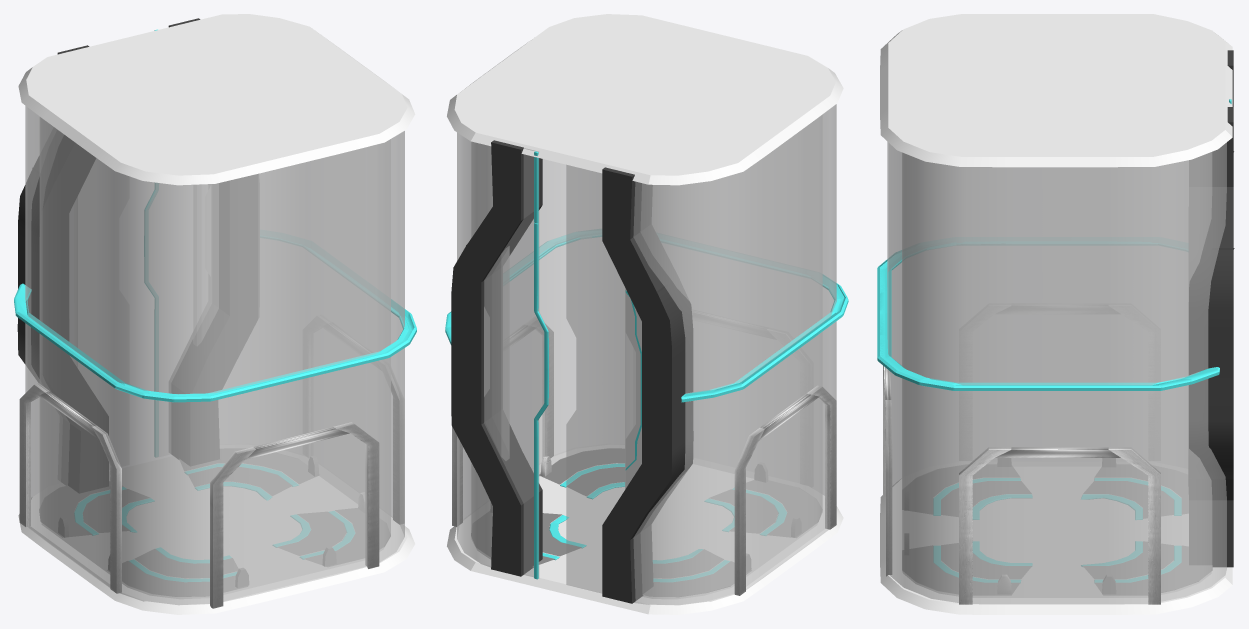
The model's file is sci_fi_elevator.glb.
3 renders of one model, left to right at view 1: azimuth 30°, elevation 25°; view 2: azimuth 150°, elevation 25°; view 3: azimuth 270°, elevation 25°, orthographic. The views are drawn at different scales.
Parts seen in each view (by area): view 1: pCube16; view 2: pCube16; view 3: pCube16.
Boxes of the visible parts, <box> form: pCube16: <box>14,14,416,614</box>; pCube16: <box>445,14,848,614</box>; pCube16: <box>877,14,1234,614</box>.
Bounding box in the file's own units: 1.39 × 1.94 × 1.38.
7 materials, 1 textured.
